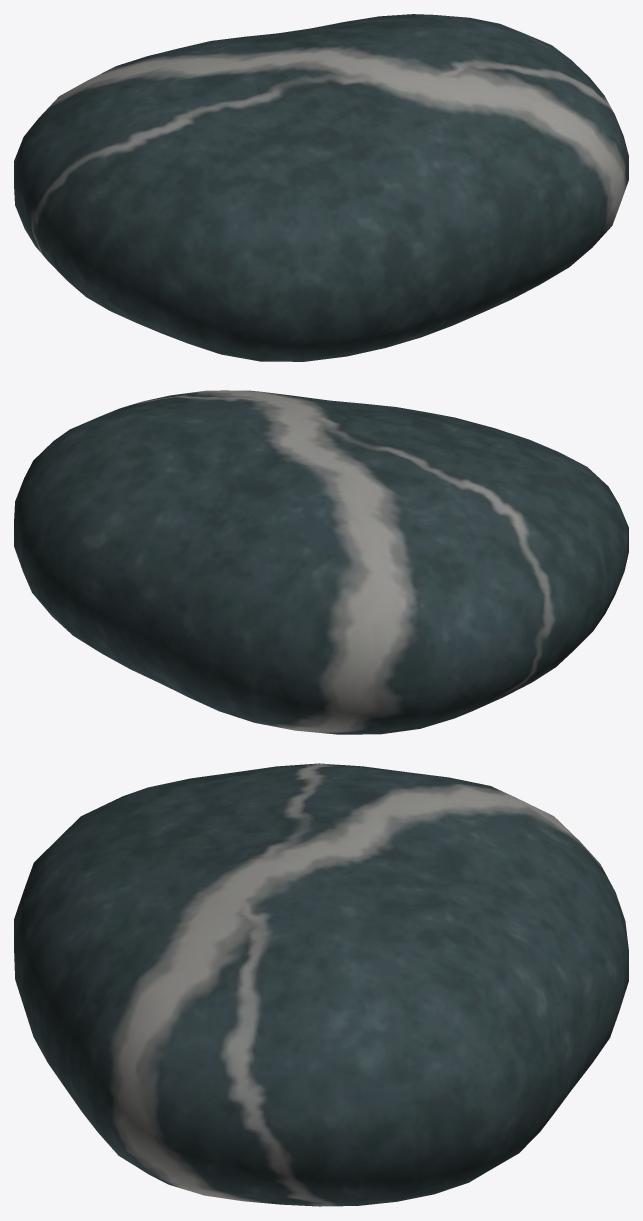
File: quartz_cobble_01.glb
The picture shows the model from 3 angles, top to bottom: view 1: azimuth 30°, elevation 25°; view 2: azimuth 150°, elevation 25°; view 3: azimuth 270°, elevation 25°; orthographic projection. The views are drawn at different scales.
Visible parts, largest first — view 1: quartz_cobble_01; view 2: quartz_cobble_01; view 3: quartz_cobble_01.
Boxes of the visible parts, x1,y1,x2,y2 form: quartz_cobble_01: (14,14,628,361); quartz_cobble_01: (14,390,628,734); quartz_cobble_01: (14,763,628,1206).
Size of the model in its own units: 0.0658 by 0.0279 by 0.0538.
1 material, 1 textured.
